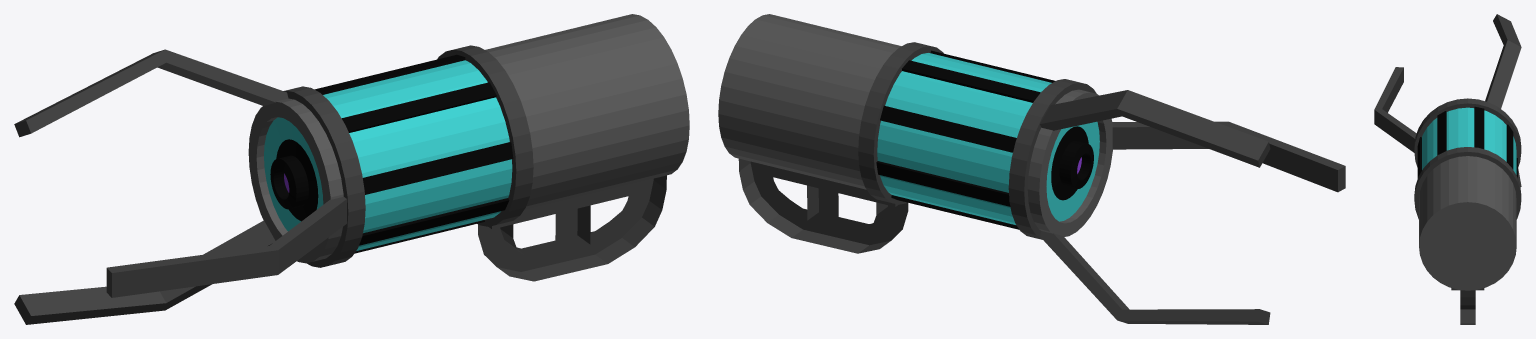
File: greg.dae
3 renders of one model, left to right at view 1: azimuth 30°, elevation 25°; view 2: azimuth 150°, elevation 25°; view 3: azimuth 270°, elevation 25°, orthographic. The views are drawn at different scales.
Parts seen in each view (by area): view 1: Body, Control Components, Arms, Power Ring, Rotaters, Lens, Emiier Ring; view 2: Body, Control Components, Arms, Power Ring, Rotaters, Lens, Emiier Ring; view 3: Body, Control Components, Arms, Power Ring, Rotaters.
Part boxes in pixels (x1,y1,x2,y2): Body: (248, 14, 689, 263); Control Components: (283, 45, 666, 281); Arms: (14, 49, 346, 324); Power Ring: (323, 60, 512, 250); Rotaters: (314, 54, 513, 253); Lens: (270, 139, 318, 221); Emiier Ring: (264, 117, 323, 231); Body: (718, 14, 1112, 236); Control Components: (738, 42, 1096, 253); Arms: (1040, 90, 1345, 324); Power Ring: (877, 53, 1051, 224); Rotaters: (876, 50, 1055, 229); Lens: (1051, 126, 1093, 200); Emiier Ring: (1046, 121, 1099, 221); Body: (1419, 156, 1516, 290); Control Components: (1414, 98, 1521, 324); Arms: (1374, 14, 1521, 186); Power Ring: (1422, 107, 1516, 174); Rotaters: (1417, 106, 1517, 178).
Size of the model in its own units: 1.7 by 0.6021 by 0.755.
